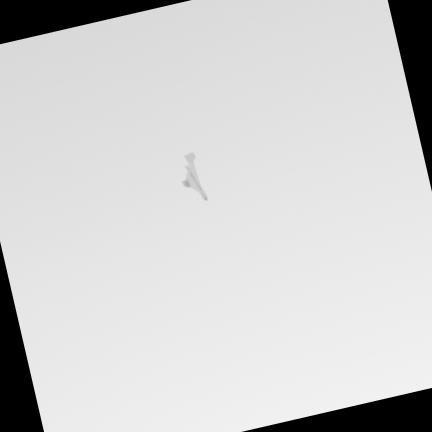Shahed: (184, 152, 207, 199)
